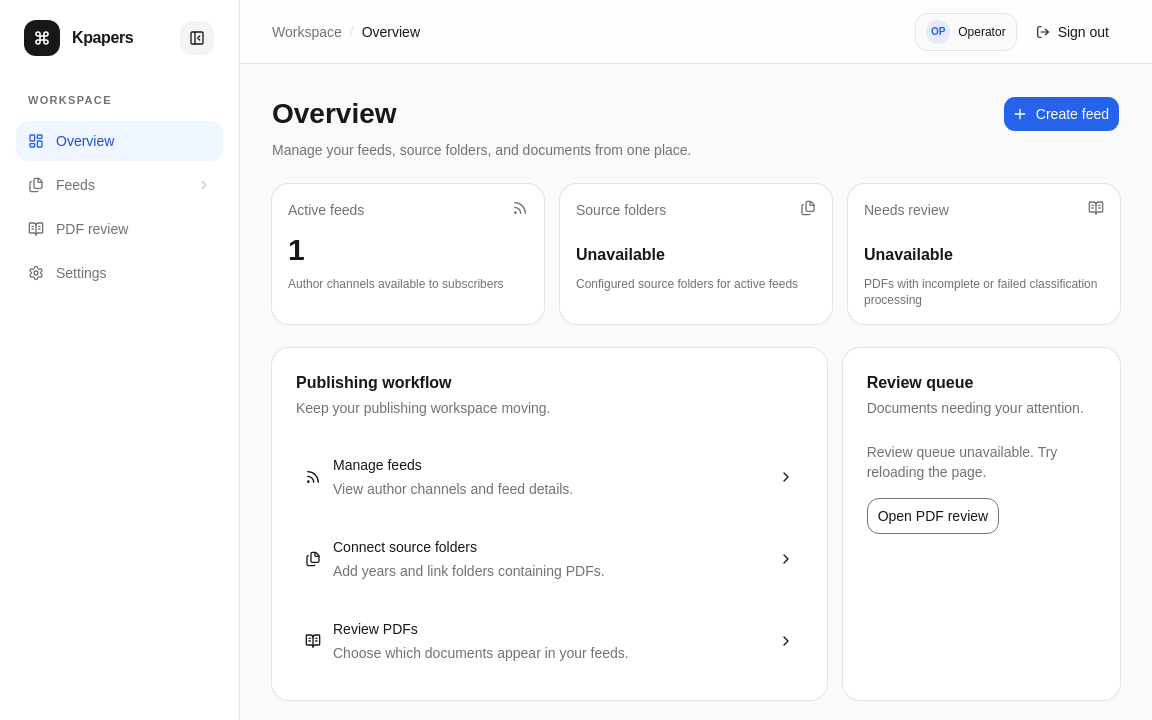
feed management workflows › uses the document copy fallback when the Clipboard API is unavailable
Expected: the heading "Overview" is shown, [272,98,396,129]
Click the button "Feeds" at (120, 184), box [16,164,223,204]
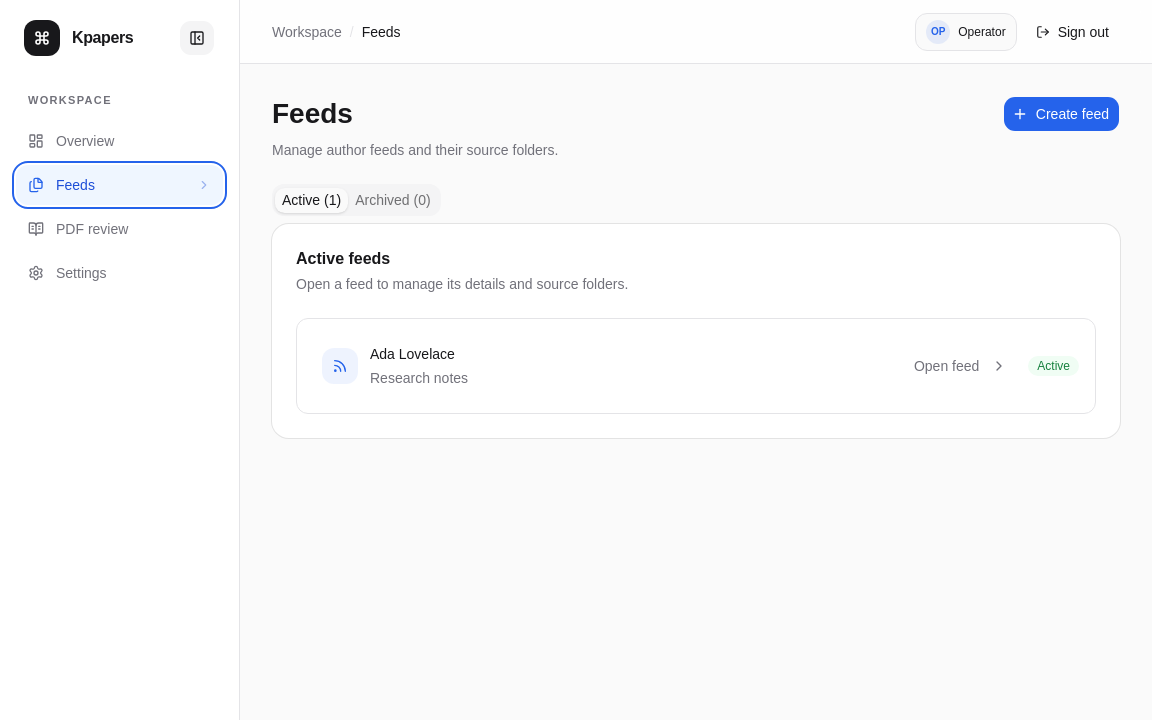
Result: the heading "Feeds" is shown at [272,98,353,129]
Click the button "Ada Lovelace Research notes Open feed" at (340, 366), box [313,335,1016,397]
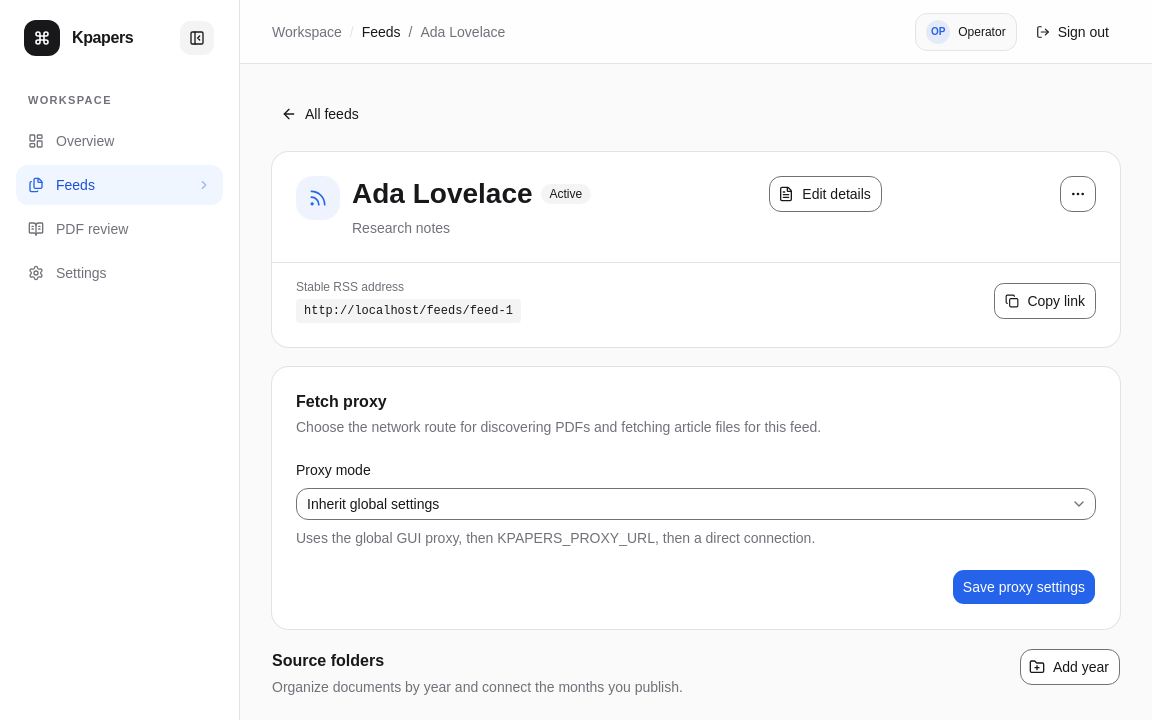
Click the button with aria-label "Copy RSS address" at (1045, 301), box [994,283,1096,319]
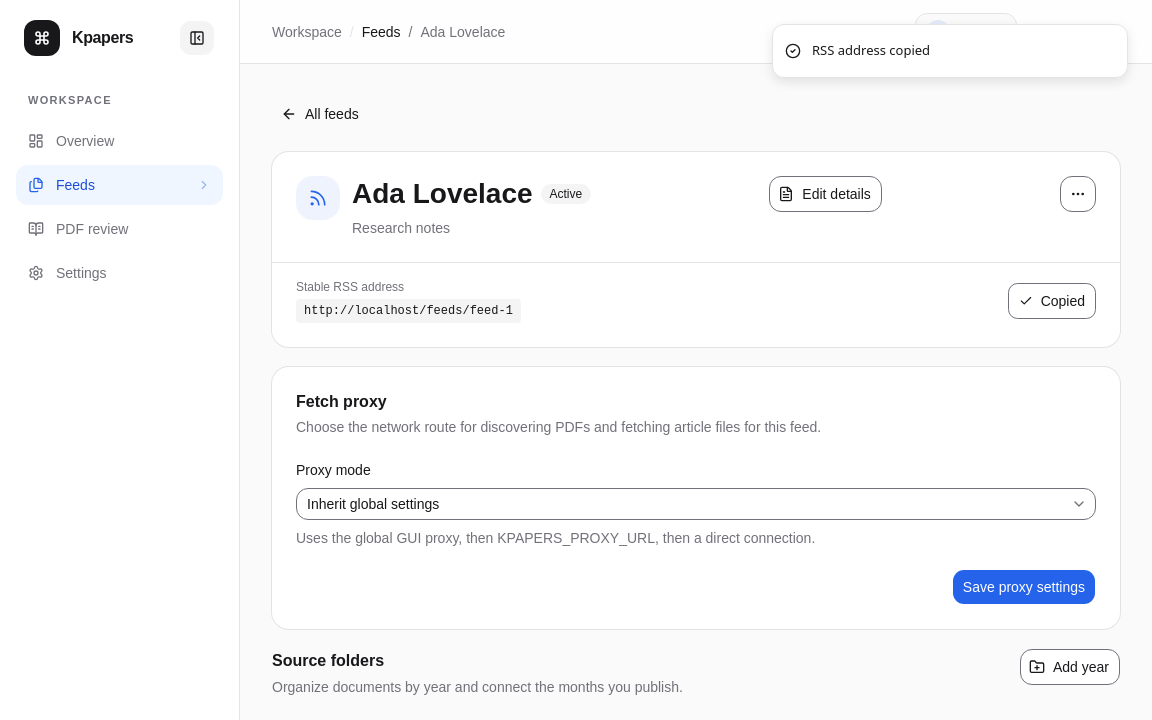
Result: the text "RSS address copied" is shown at [812,41,930,60]
